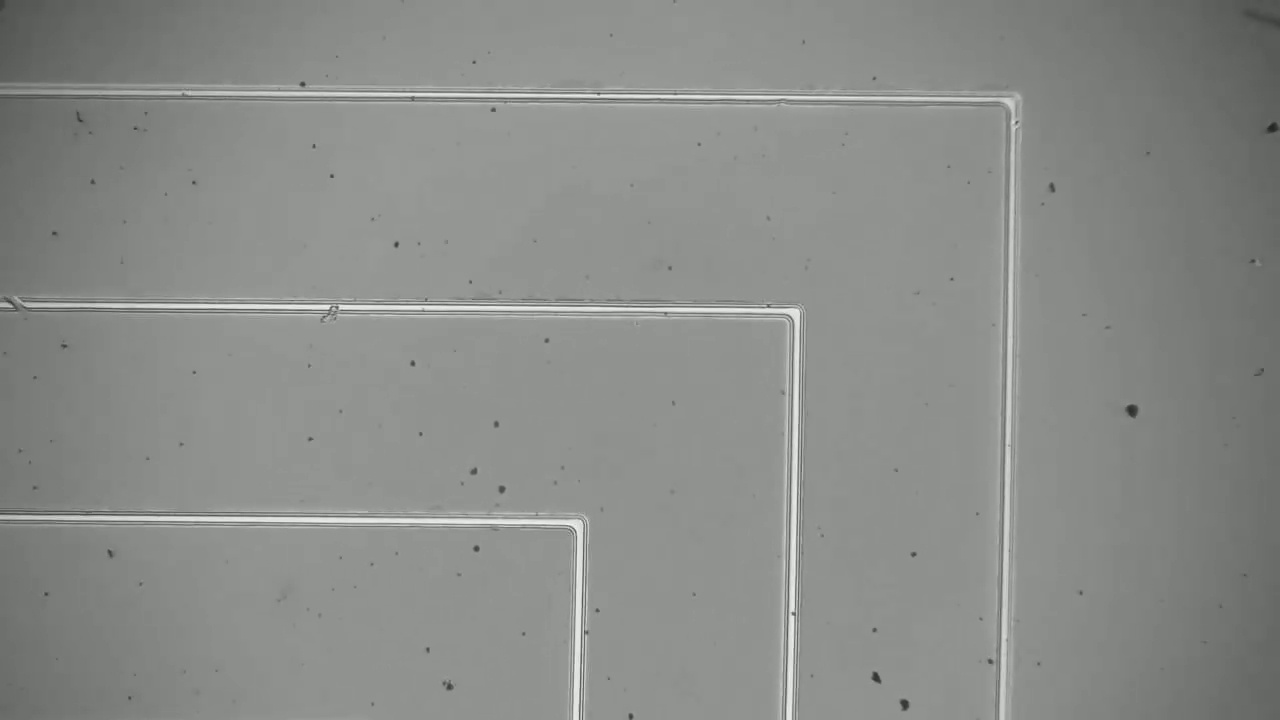open: (0, 287, 29, 323)
stains_enbedded: (308, 291, 353, 332)
